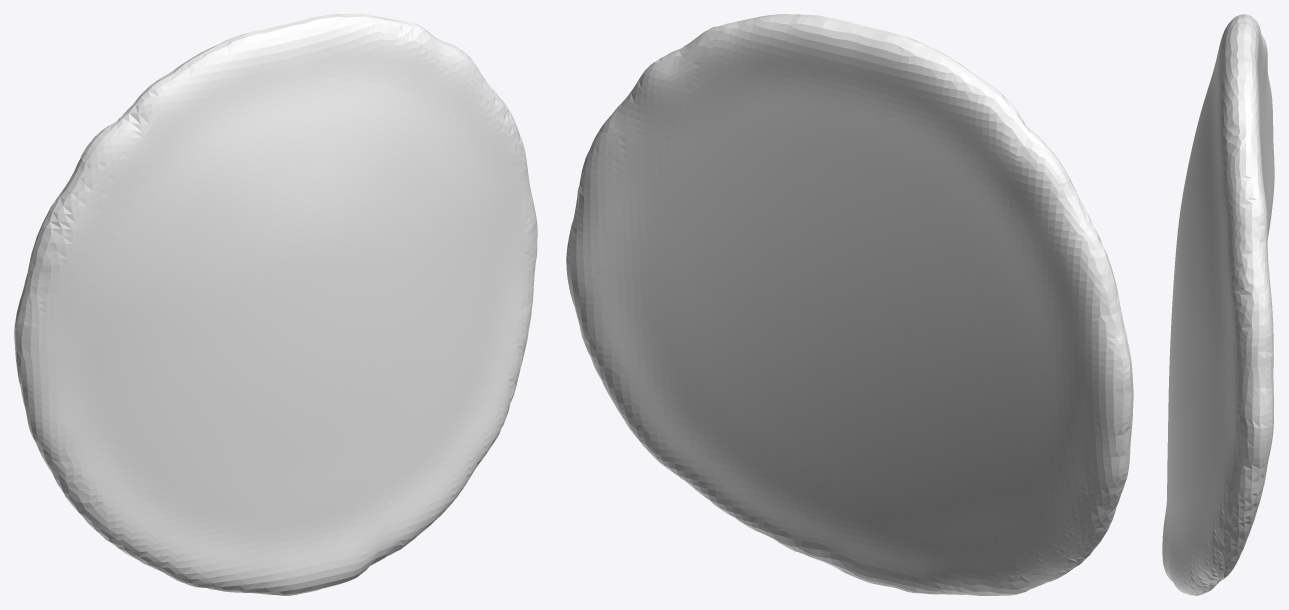
File: SubTool-1-1751427.OBJ
The picture shows the model from 3 angles, left to right: view 1: azimuth 30°, elevation 25°; view 2: azimuth 150°, elevation 25°; view 3: azimuth 270°, elevation 25°; orthographic projection. The views are drawn at different scales.
Visible parts, largest first — view 1: ZBrush_defualt_group; view 2: ZBrush_defualt_group; view 3: ZBrush_defualt_group.
Boxes of the visible parts, box(x1,y1,x2,y2) form: ZBrush_defualt_group: box(14, 14, 537, 595); ZBrush_defualt_group: box(566, 14, 1133, 595); ZBrush_defualt_group: box(1162, 14, 1274, 595).
Size of the model in its own units: 1.28 by 1.27 by 0.2481.
